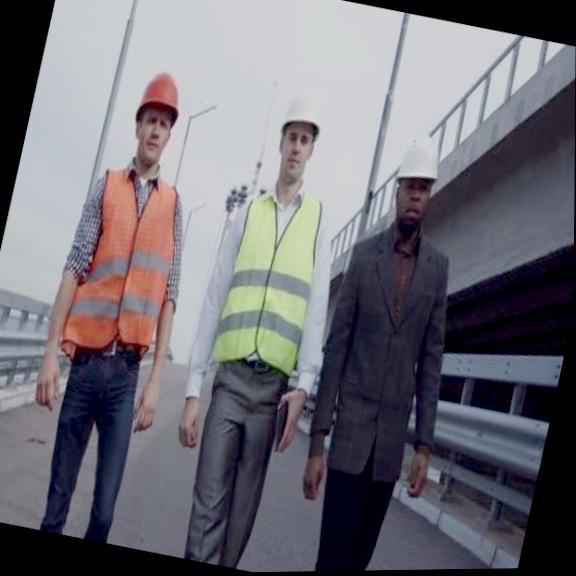no_safety_vest: (316, 239, 459, 495)
safety_vest: (198, 177, 346, 406), (51, 160, 198, 377)
